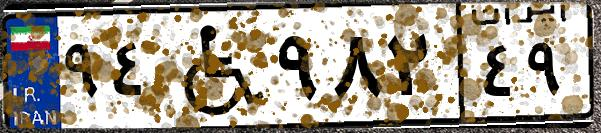2: (385, 28, 445, 110)
4: (475, 38, 525, 113), (110, 28, 158, 98)
8: (330, 28, 385, 110)
9: (270, 28, 330, 110), (57, 26, 110, 100), (525, 38, 570, 115)
ژ (معلولین و جانبازان): (158, 12, 270, 120)
